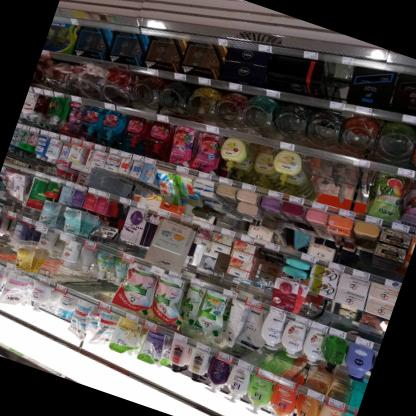empty_space: (243, 249, 285, 304), (329, 164, 367, 213), (304, 158, 338, 205)
